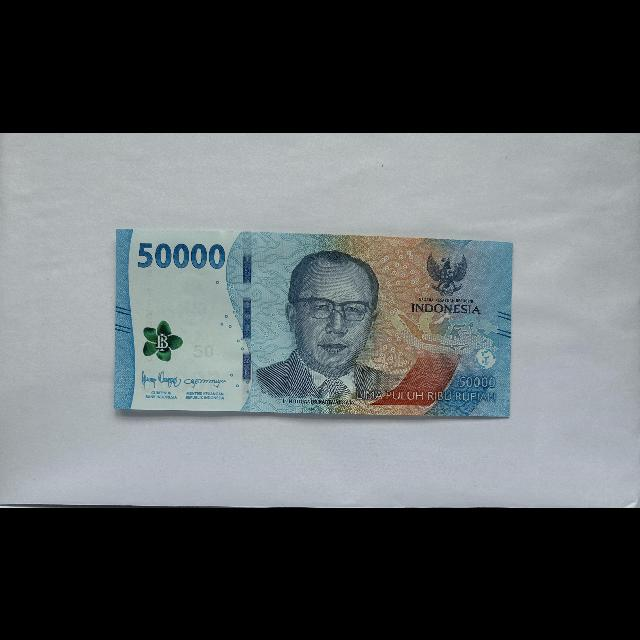Asli-50k: (112, 226, 514, 419)
Tinta-Asli-50k: (142, 317, 184, 361)
